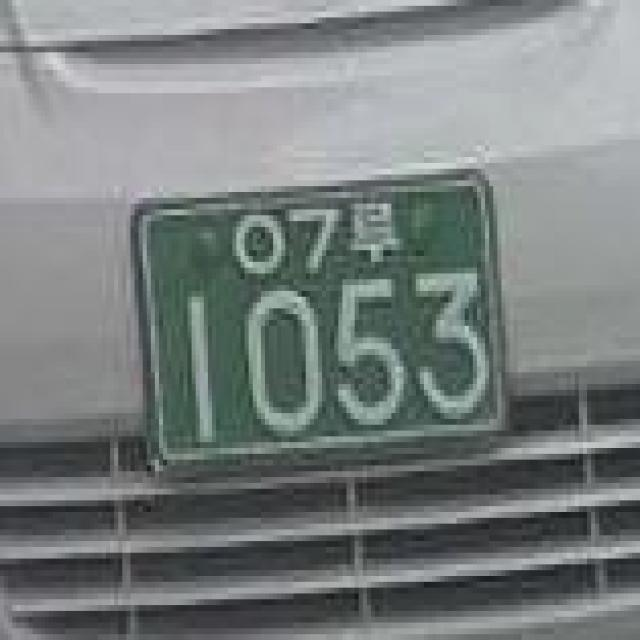illegal_plate: (120, 159, 524, 492)
